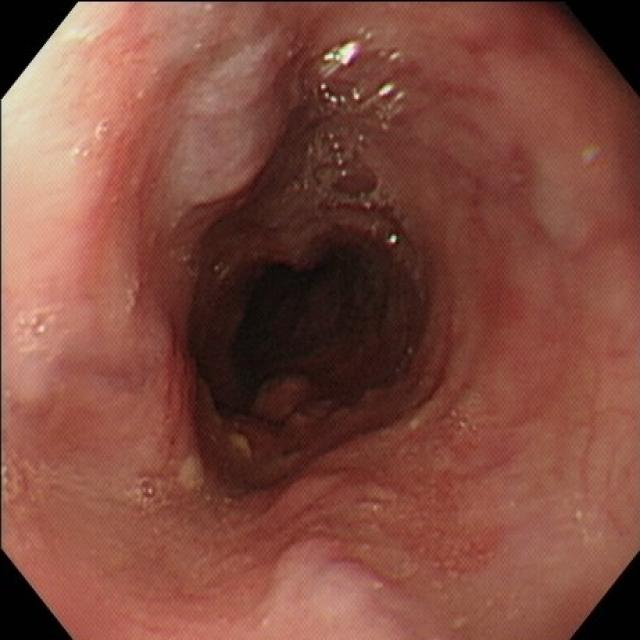A: (266, 465, 429, 640), (167, 33, 301, 228), (244, 363, 355, 443), (433, 473, 501, 586), (153, 312, 207, 443)
E: (221, 229, 421, 413)
T: (314, 59, 407, 212)
U: (323, 40, 362, 69)
